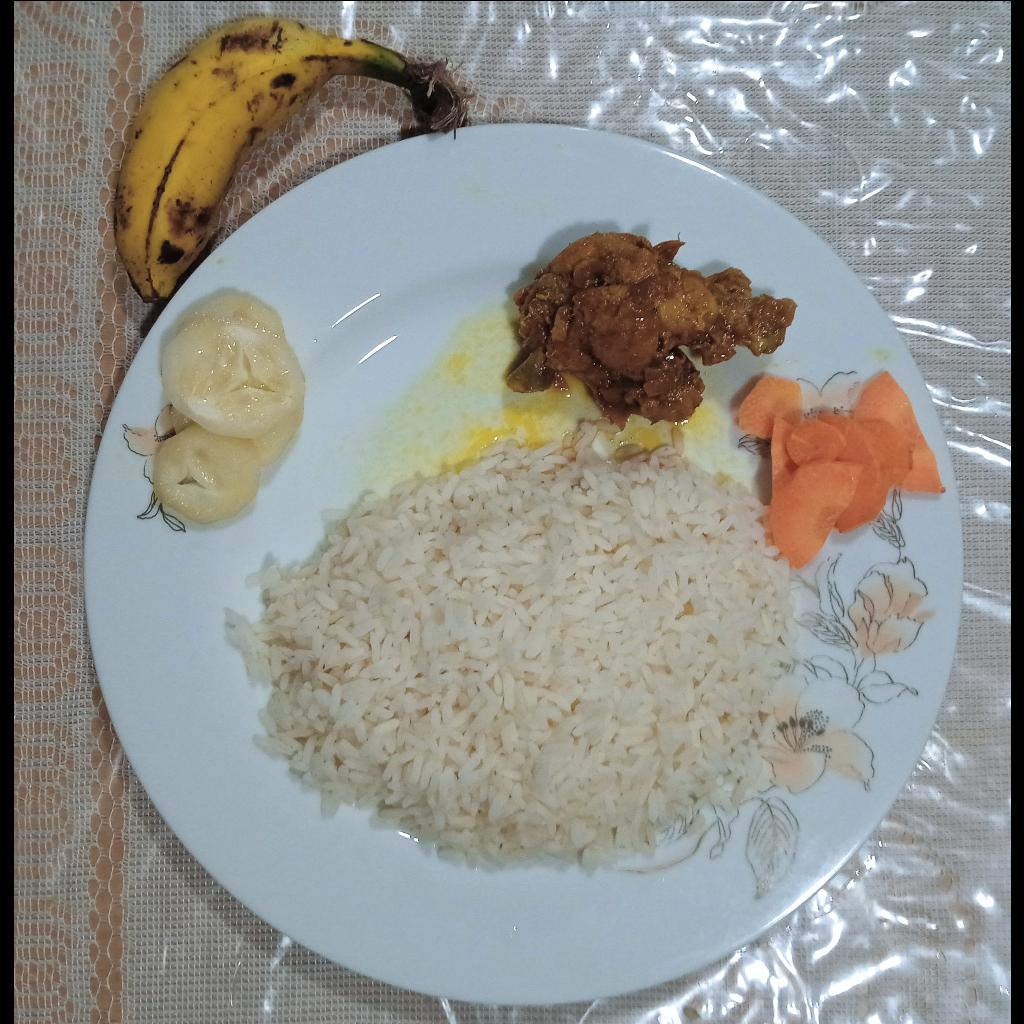banana: (107, 11, 408, 300)
carrot: (737, 370, 947, 569)
chicken: (504, 230, 798, 428)
cucumber: (153, 292, 306, 526)
rice: (224, 419, 800, 878)
